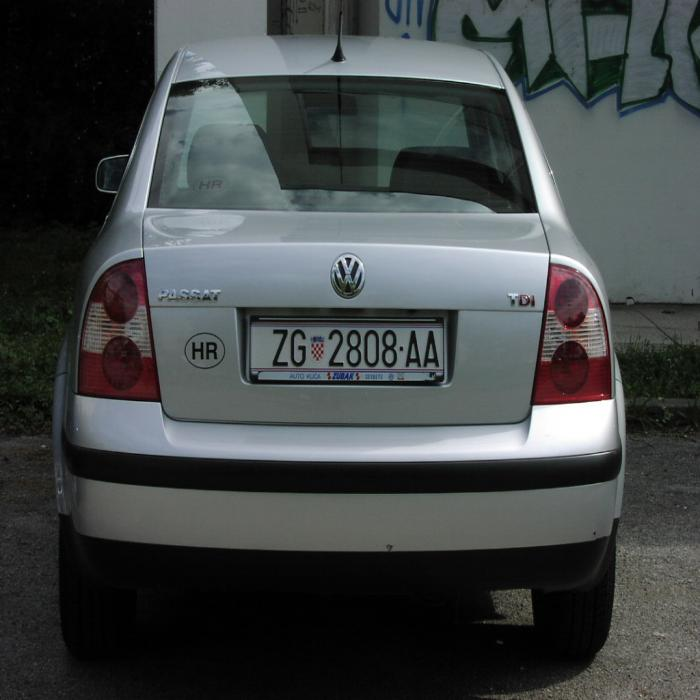number_plate: (249, 322, 444, 369)
